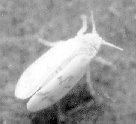whitefly: (12, 11, 127, 123)
